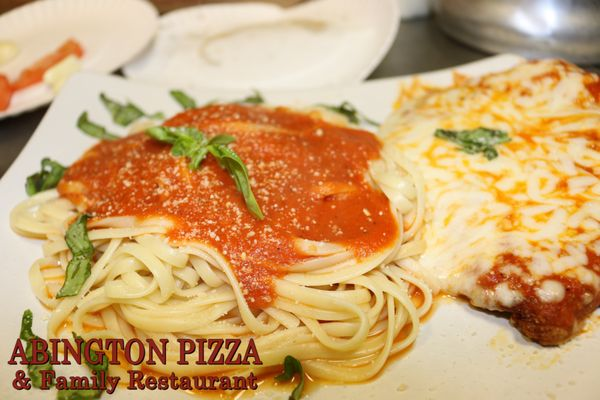sushi: (124, 1, 402, 98), (429, 0, 600, 69)
